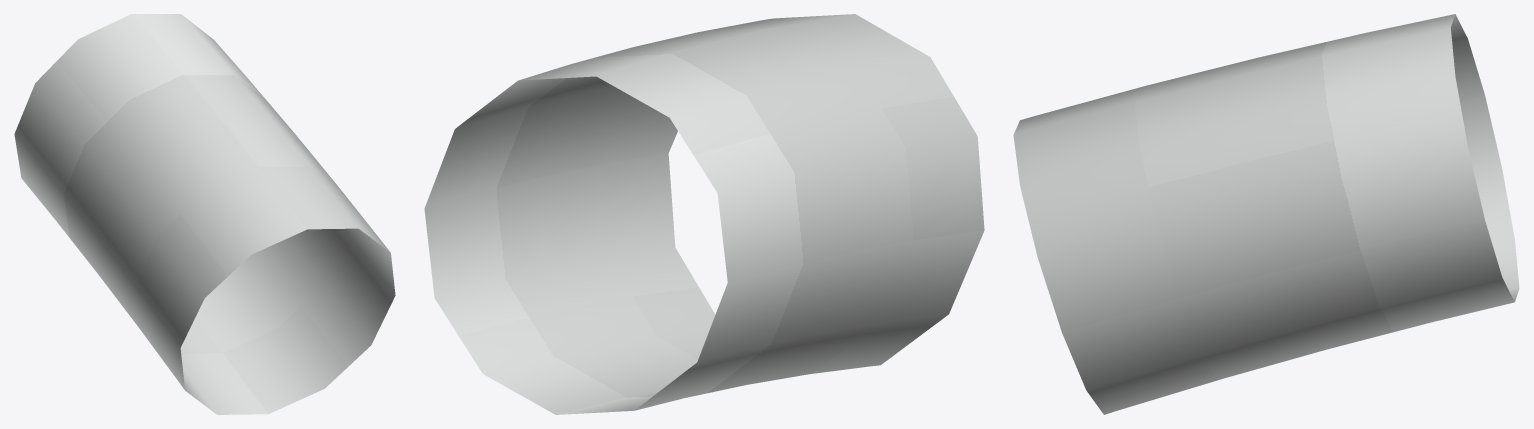
File: luminairearm_laupsweep8ft_c4.obj
3 renders of one model, left to right at view 1: azimuth 30°, elevation 25°; view 2: azimuth 150°, elevation 25°; view 3: azimuth 270°, elevation 25°, orthographic. The views are drawn at different scales.
Visible parts, largest first — view 1: luminairearm_laupsweep8ft_c4; view 2: luminairearm_laupsweep8ft_c4; view 3: luminairearm_laupsweep8ft_c4.
Part boxes in pixels (x1,y1,x2,y2): luminairearm_laupsweep8ft_c4: (14, 14, 395, 414); luminairearm_laupsweep8ft_c4: (424, 14, 984, 414); luminairearm_laupsweep8ft_c4: (1013, 14, 1519, 414).
Bounding box in the file's own units: 0.2042 × 0.2722 × 0.3353.
